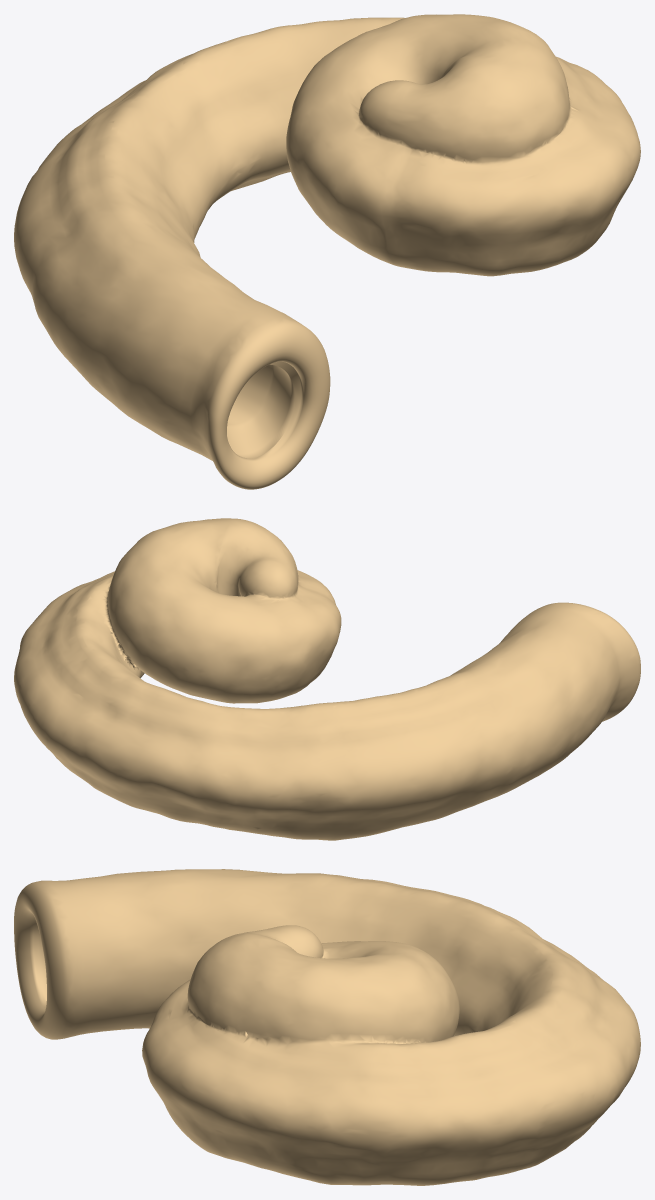
File: orca_cochlea.glb
3 renders of one model, top to bottom at view 1: azimuth 30°, elevation 25°; view 2: azimuth 150°, elevation 25°; view 3: azimuth 270°, elevation 25°, orthographic. The views are drawn at different scales.
Visible parts, largest first — view 1: Orcinus_orca_Cochlea_Hollow; view 2: Orcinus_orca_Cochlea_Hollow; view 3: Orcinus_orca_Cochlea_Hollow.
Boxes of the visible parts, left/top/right/bottom form: Orcinus_orca_Cochlea_Hollow: left=14, top=14, right=640, bottom=489; Orcinus_orca_Cochlea_Hollow: left=14, top=518, right=640, bottom=840; Orcinus_orca_Cochlea_Hollow: left=14, top=869, right=640, bottom=1185.
Bounding box in the file's own units: 16.79 × 7.05 × 16.49.
